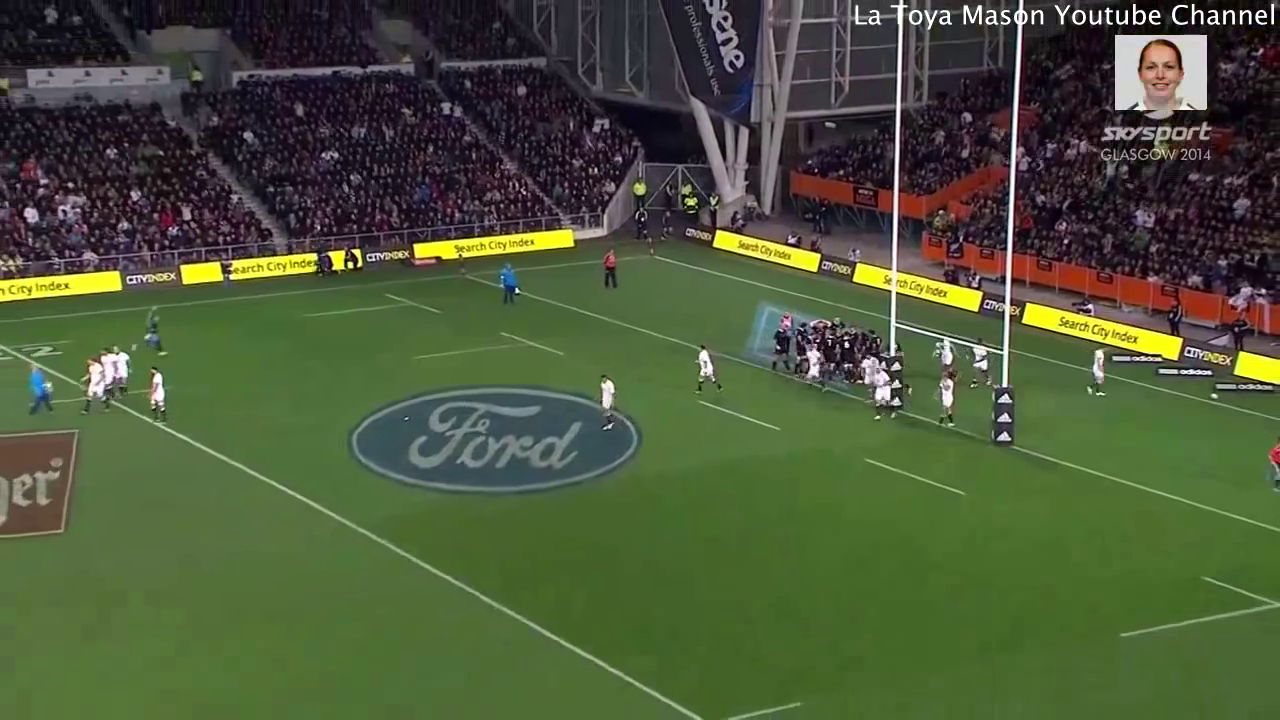player: (586, 369, 625, 435), (688, 340, 730, 401), (75, 352, 115, 415), (137, 304, 179, 363), (23, 354, 57, 425), (868, 360, 904, 424), (143, 361, 175, 432), (960, 330, 995, 389), (931, 366, 962, 432), (92, 343, 121, 410), (1078, 342, 1112, 399), (495, 255, 525, 311), (799, 341, 830, 395), (108, 338, 135, 397), (832, 329, 861, 383), (767, 322, 791, 375), (597, 245, 621, 294), (791, 318, 811, 376), (932, 334, 960, 373), (862, 324, 883, 358), (776, 310, 796, 333)
post: (871, 35, 1029, 462)
